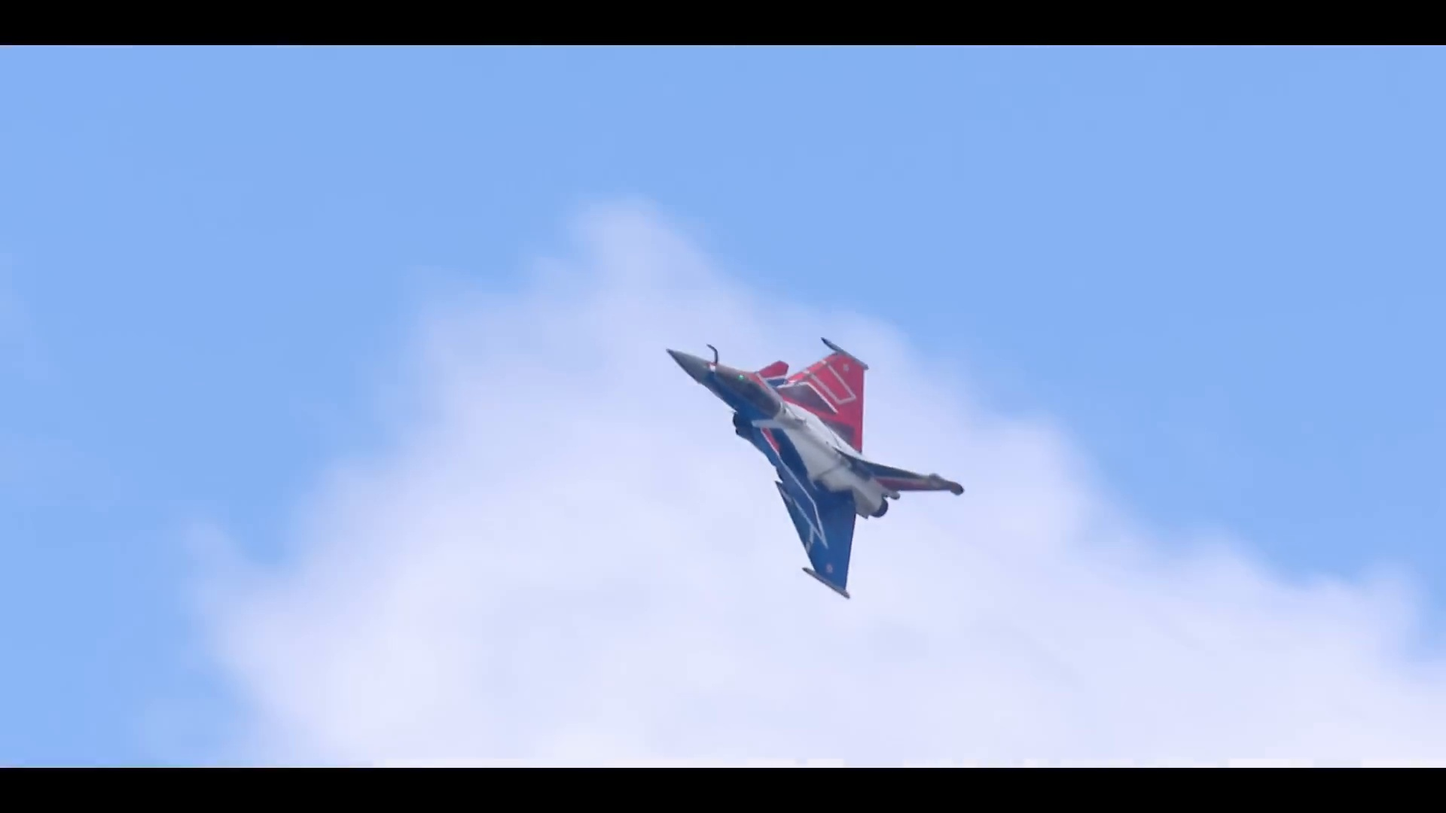Rafale: (664, 324, 981, 614)
